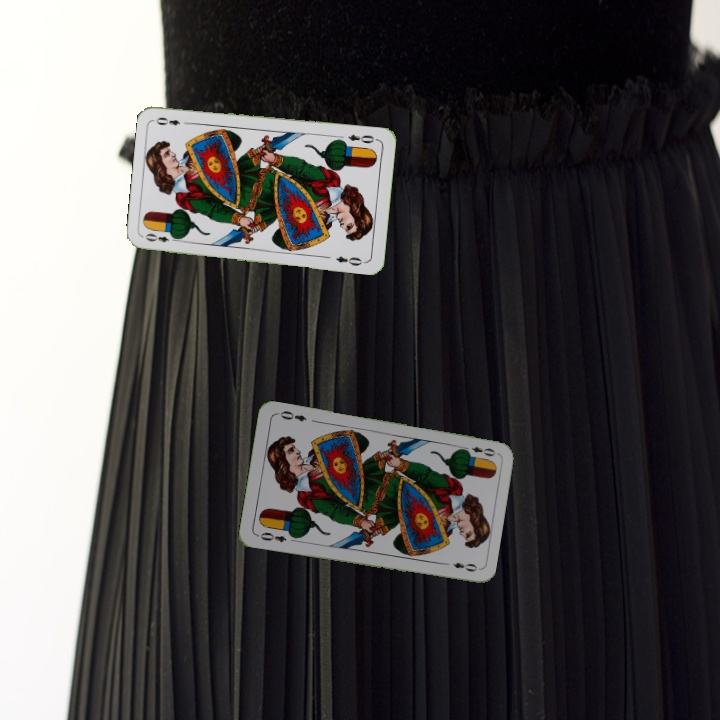EO: (458, 442, 498, 459), (141, 229, 181, 245), (253, 528, 289, 545), (344, 130, 380, 146)
